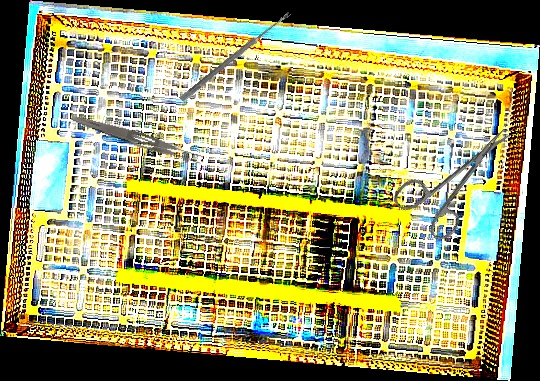Dressing Forceps: (68, 112, 205, 167)
Iris Scissors: (389, 108, 533, 248)
Surgical Spoon: (179, 10, 292, 103)
